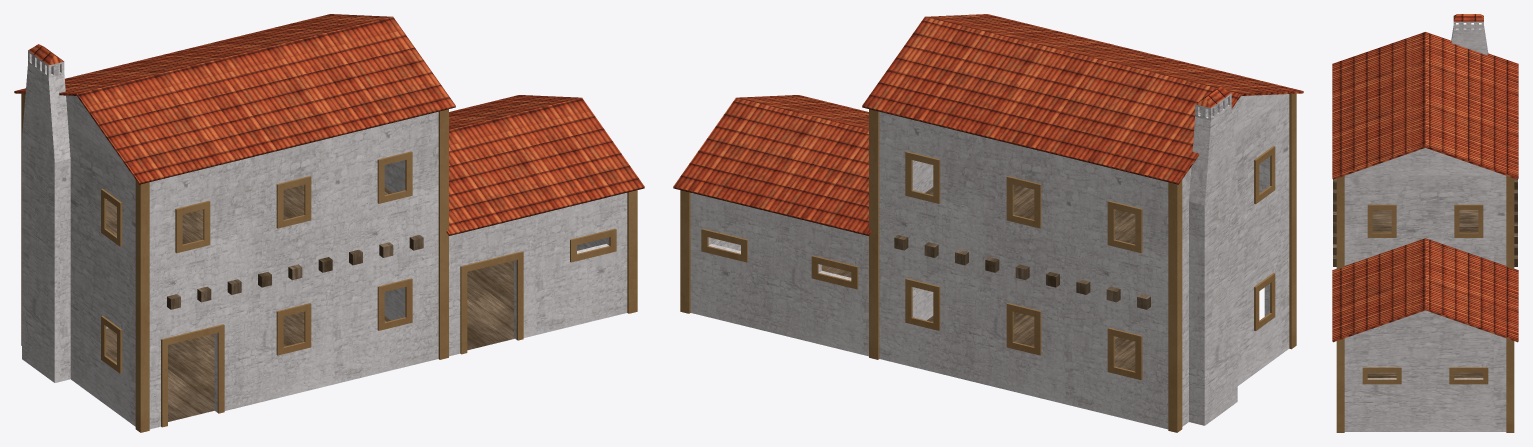
3 views of the same model, side by side, from view 1: azimuth 30°, elevation 25°; view 2: azimuth 150°, elevation 25°; view 3: azimuth 270°, elevation 25° (orthographic). The views are drawn at different scales.
Parts seen in each view (by area): view 1: Cube.001_0; view 2: Cube.001_0; view 3: Cube.001_0.
Part boxes in pixels (x1=…): Cube.001_0: x1=14, y1=14, x2=644, y2=432; Cube.001_0: x1=673, y1=14, x2=1303, y2=432; Cube.001_0: x1=1332, y1=14, x2=1518, y2=432.
Bounding box in the file's own units: 6.36 × 3.78 × 2.69.
Materials: 4 (4 with a texture image).
